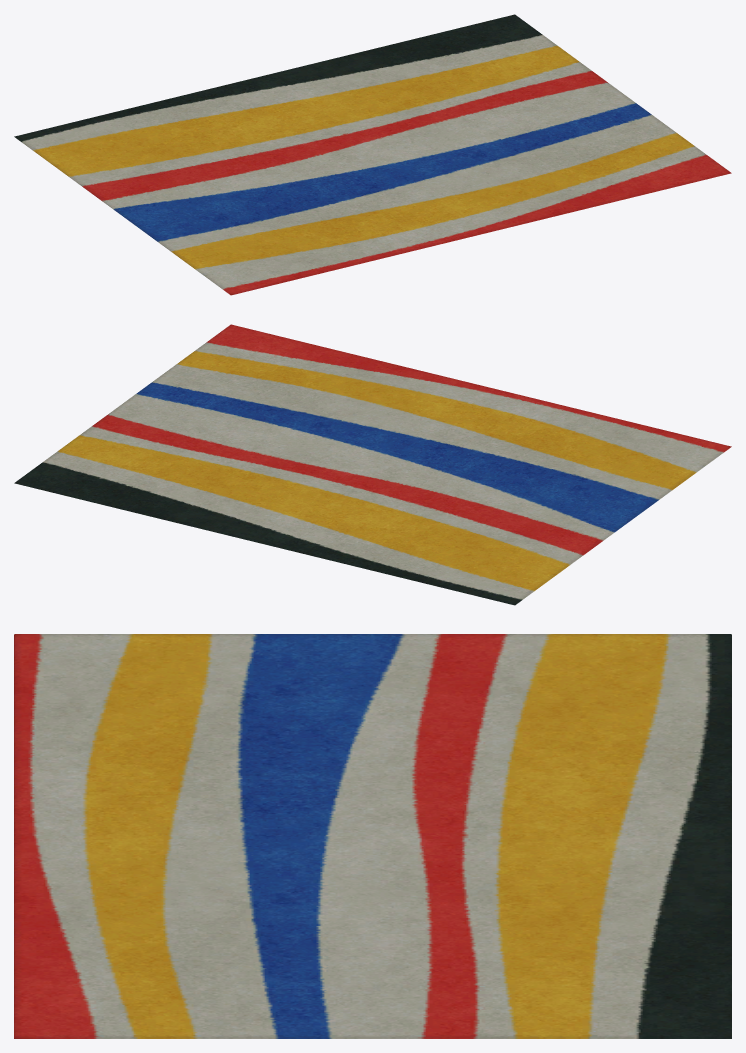
File: RugRectWaveL00.glb
3 renders of one model, top to bottom at view 1: azimuth 30°, elevation 25°; view 2: azimuth 150°, elevation 25°; view 3: azimuth 270°, elevation 25°, orthographic. The views are drawn at different scales.
Visible parts, largest first — view 1: Main__mMain; view 2: Main__mMain; view 3: Main__mMain.
Part boxes in pixels (box(x1,y1,x2,y2)): Main__mMain: box(14, 14, 731, 295); Main__mMain: box(14, 324, 731, 605); Main__mMain: box(14, 634, 731, 1038).
Bounding box in the file's own units: 40 × 0.03 × 30.
Materials: 1 (1 with a texture image).
